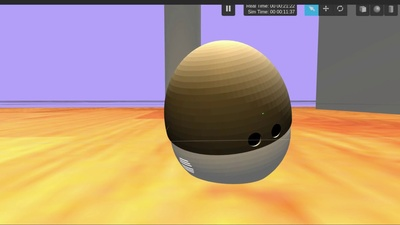mira_robot: (165, 40, 293, 184)
